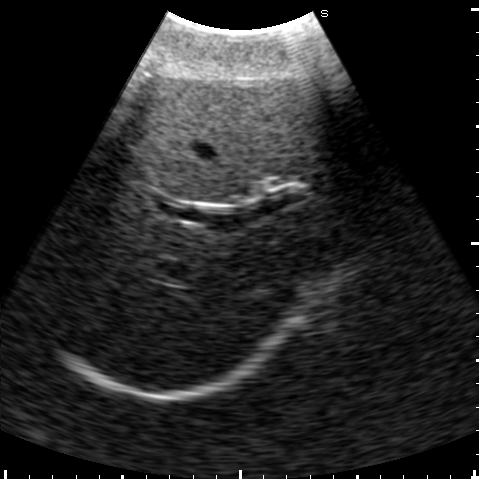S4: (123, 78, 321, 202)
